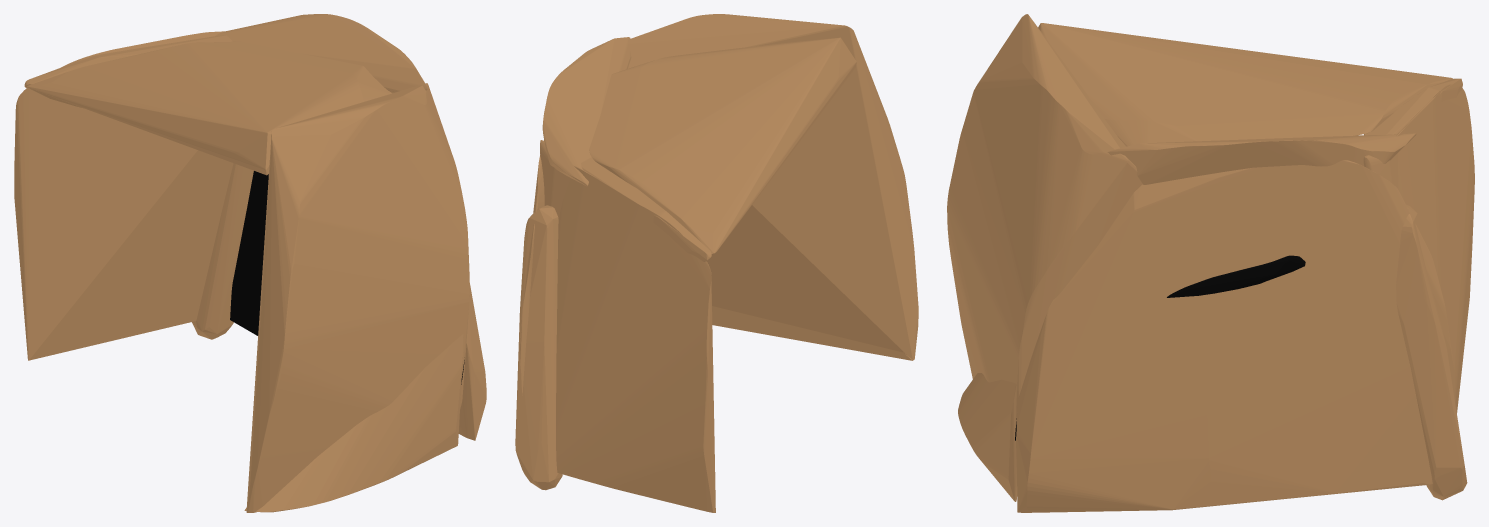
File: haeschen-hoehle.glb
3 renders of one model, left to right at view 1: azimuth 30°, elevation 25°; view 2: azimuth 150°, elevation 25°; view 3: azimuth 270°, elevation 25°, orthographic. The views are drawn at different scales.
Visible parts, largest first — view 1: brush_unlithull_3; view 2: brush_unlithull_3; view 3: brush_unlithull_3.
Part boxes in pixels (x1,y1,x2,y2): brush_unlithull_3: (14, 14, 486, 512); brush_unlithull_3: (515, 14, 918, 512); brush_unlithull_3: (947, 14, 1474, 512).
Size of what is drawn, in the model's own units: 8.05 by 10.69 by 12.3.
